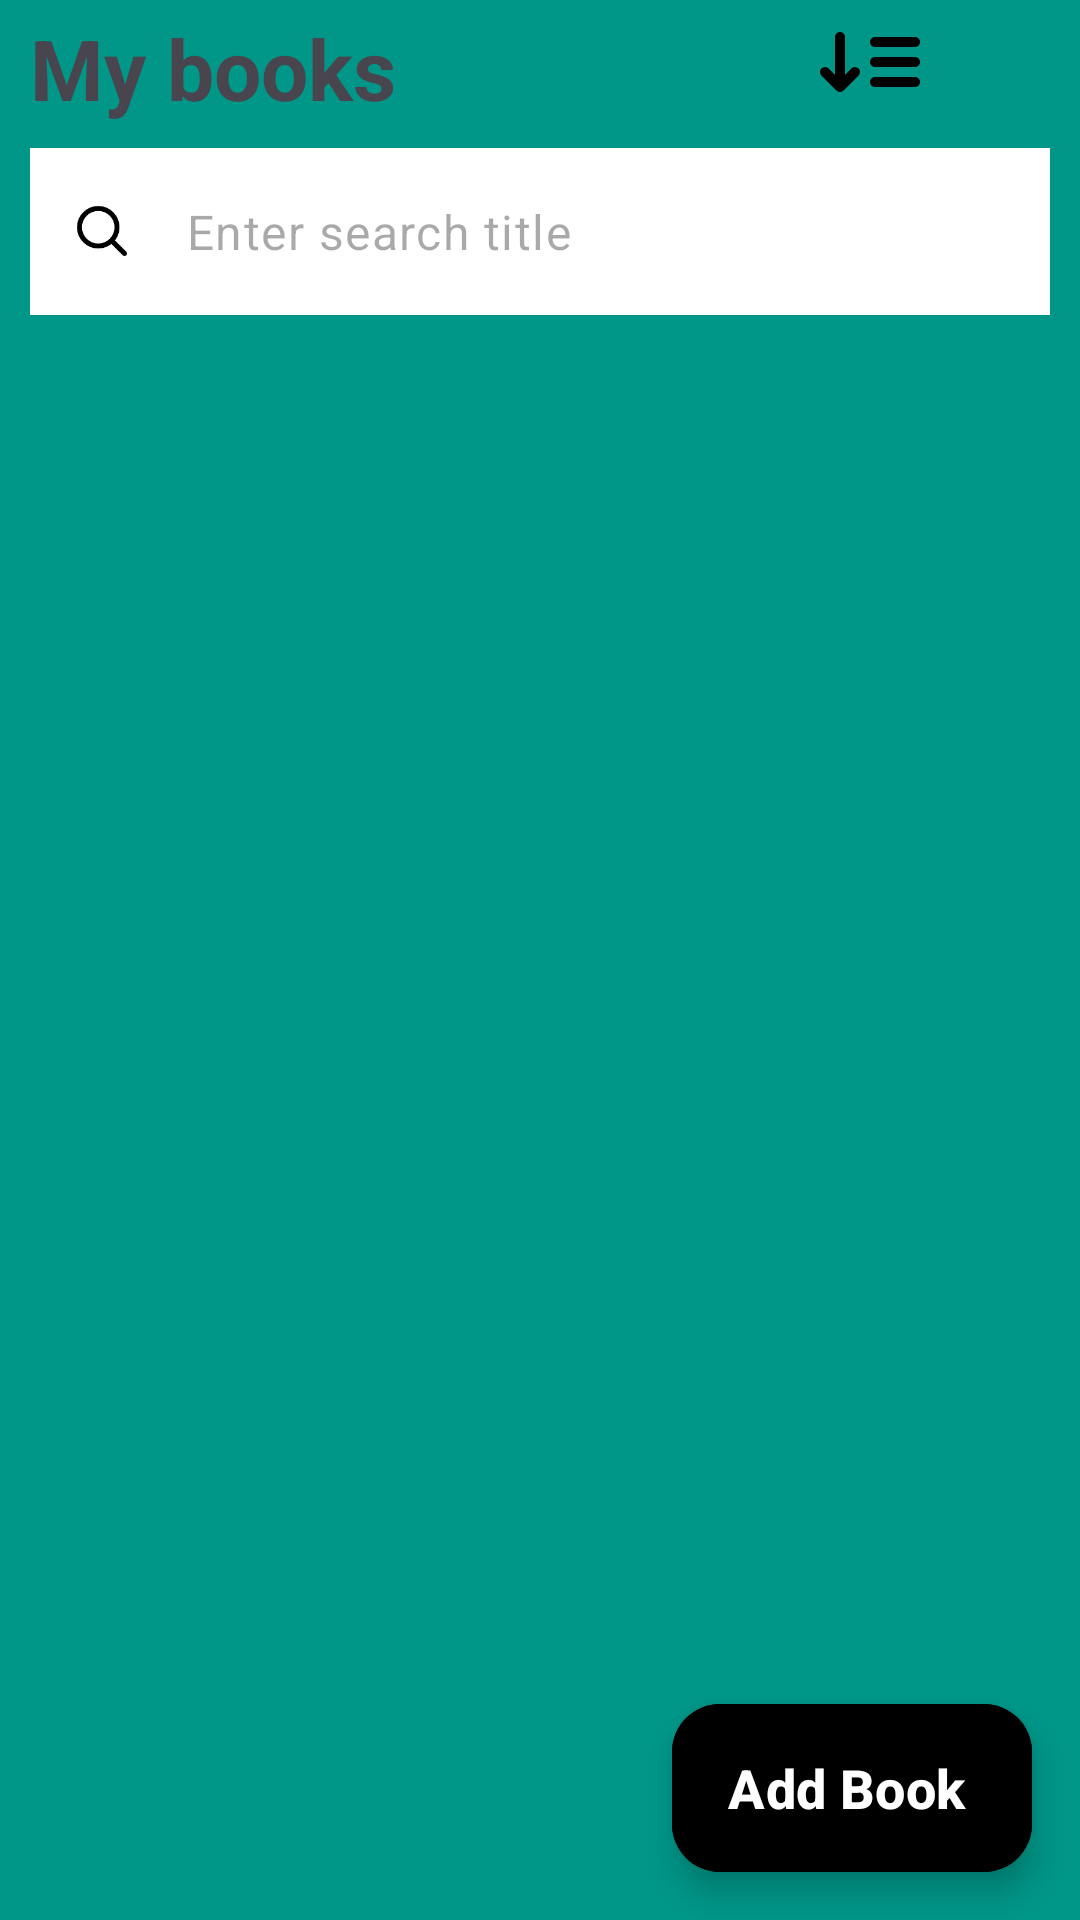

Locate icon controls on the screen. Image size 1080px x 1920px, boxes as [x1=x1, y1=y1, x2=x2, y2=y2].
sort: [x1=820, y1=32, x2=920, y2=92]
